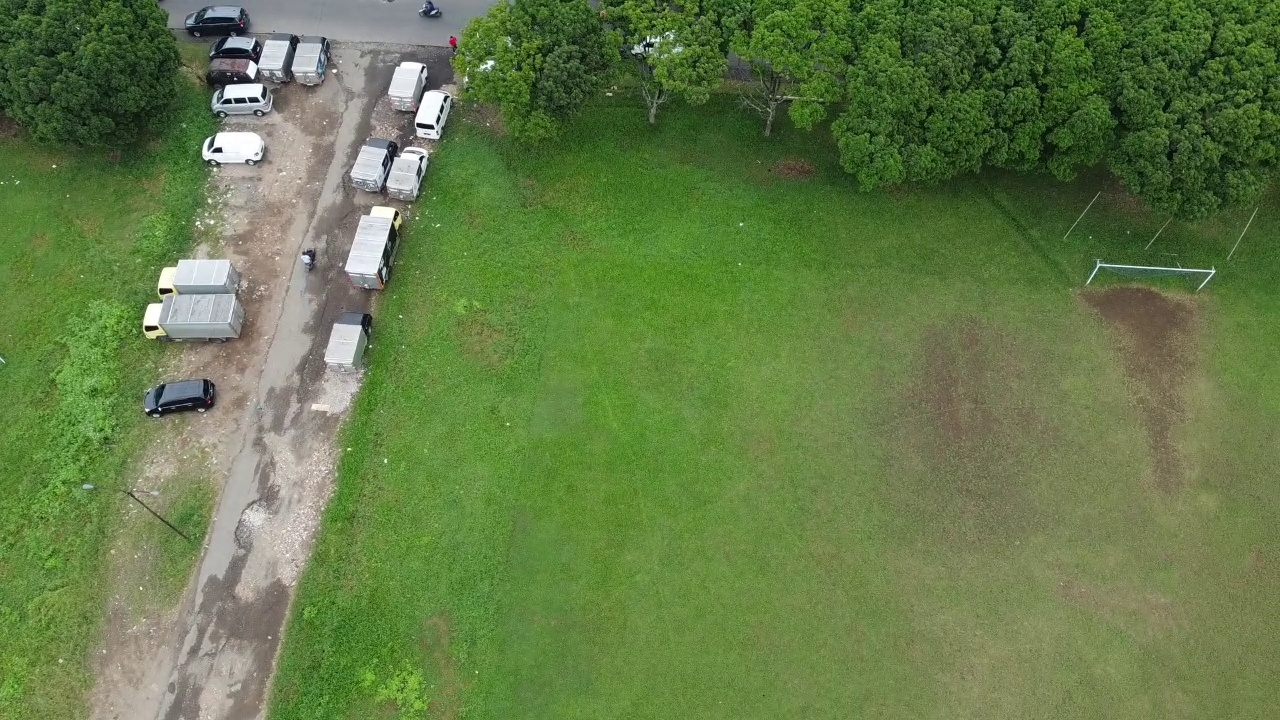mobil: (141, 377, 221, 418), (208, 80, 278, 122), (199, 126, 268, 168), (182, 3, 254, 39), (414, 87, 458, 144), (204, 57, 263, 89), (207, 34, 265, 66)
